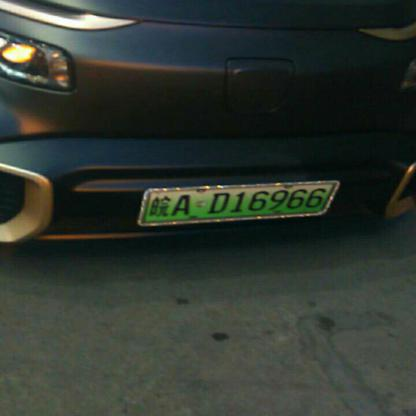lp: (145, 185, 332, 221)
